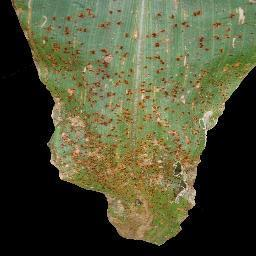Corn_Common_Rust: (10, 0, 256, 249)
